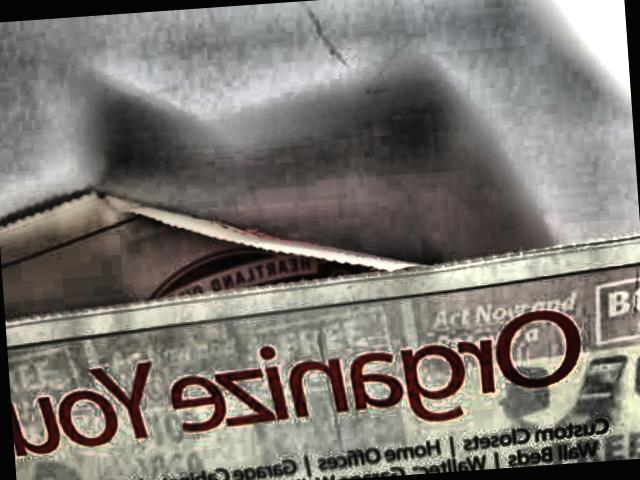Paper: (0, 136, 640, 480)
